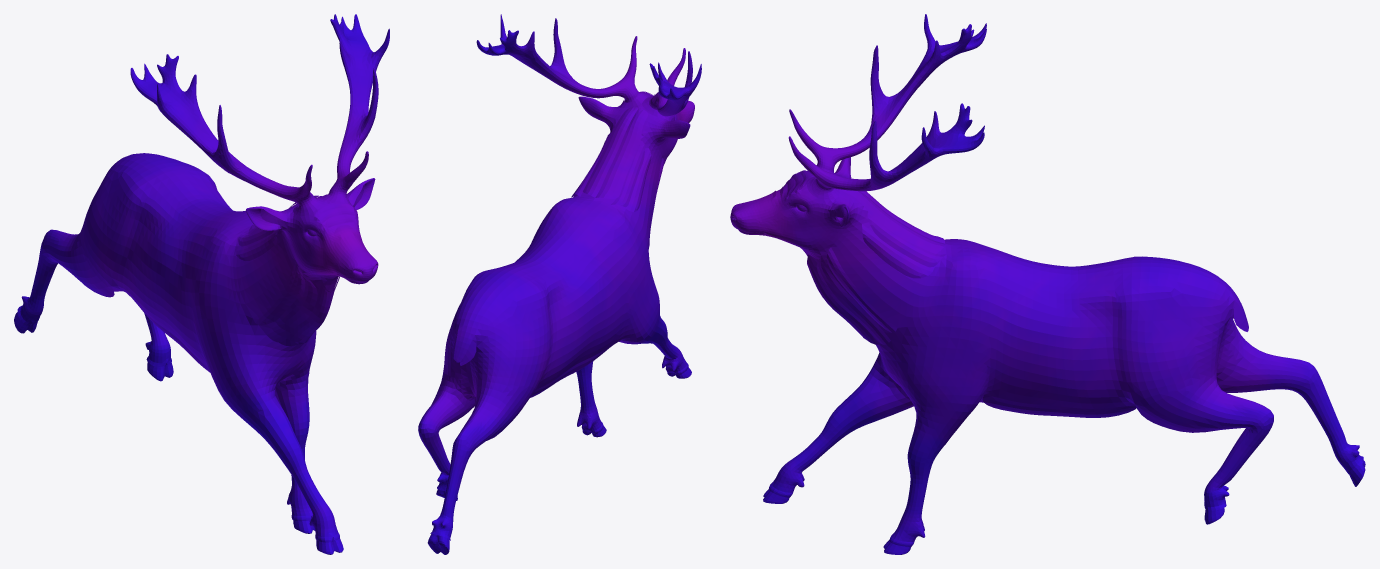
File: pred.glb
3 renders of one model, left to right at view 1: azimuth 30°, elevation 25°; view 2: azimuth 150°, elevation 25°; view 3: azimuth 270°, elevation 25°, orthographic. The views are drawn at different scales.
Size of the model in its own units: 0.2652 by 0.5183 by 0.6278.
